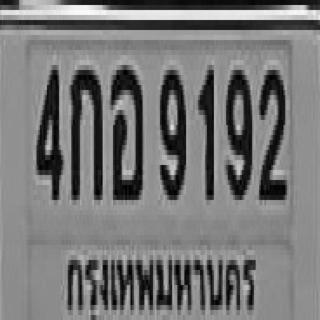A01: (70, 60, 101, 195)
A43: (110, 58, 141, 192)
N01: (196, 60, 212, 195)
N02: (257, 65, 285, 195)
N04: (35, 58, 61, 192)
N09: (224, 62, 250, 192), (158, 62, 184, 192)
P04: (56, 235, 259, 320)
